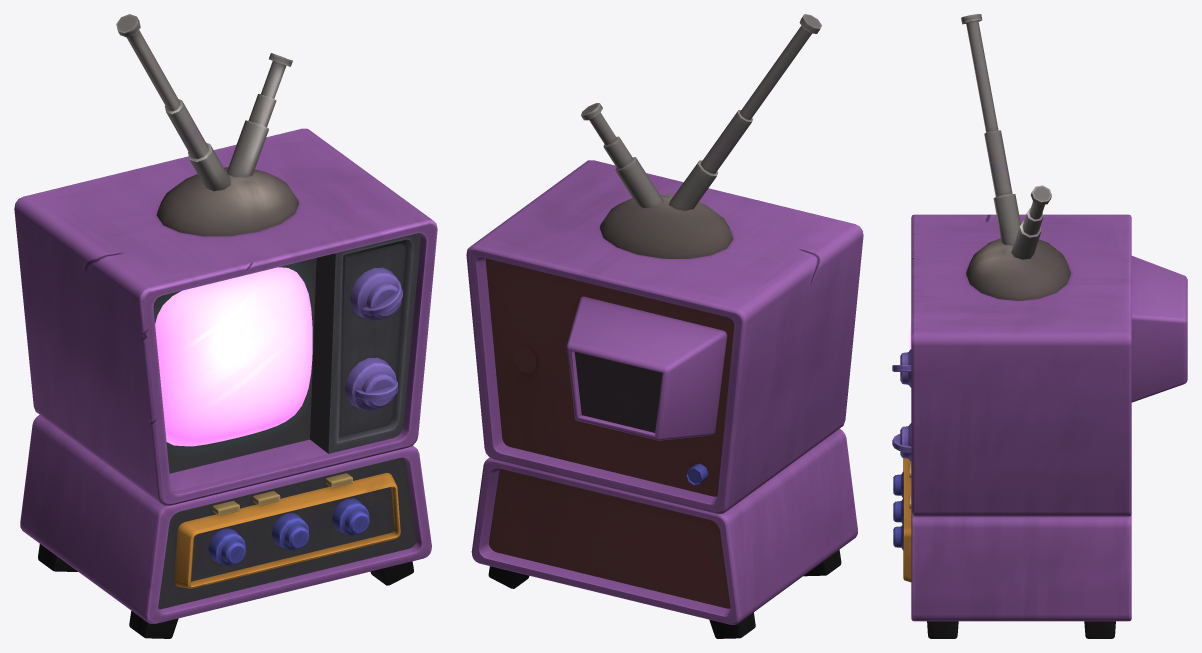
The model's file is television.gltf.
3 renders of one model, left to right at view 1: azimuth 30°, elevation 25°; view 2: azimuth 150°, elevation 25°; view 3: azimuth 270°, elevation 25°, orthographic. The views are drawn at different scales.
Parts seen in each view (by area): view 1: polySurface67.001_49, polySurface68_6; view 2: polySurface67.001_49; view 3: polySurface67.001_49.
Part boxes in pixels (<box>): polySurface67.001_49: <box>14,14,437,638</box>; polySurface68_6: <box>155,267,312,446</box>; polySurface67.001_49: <box>466,14,863,638</box>; polySurface67.001_49: <box>892,14,1187,638</box>.
Size of the model in its own units: 3.57 by 6.96 by 3.56.
2 materials, 2 textured.
